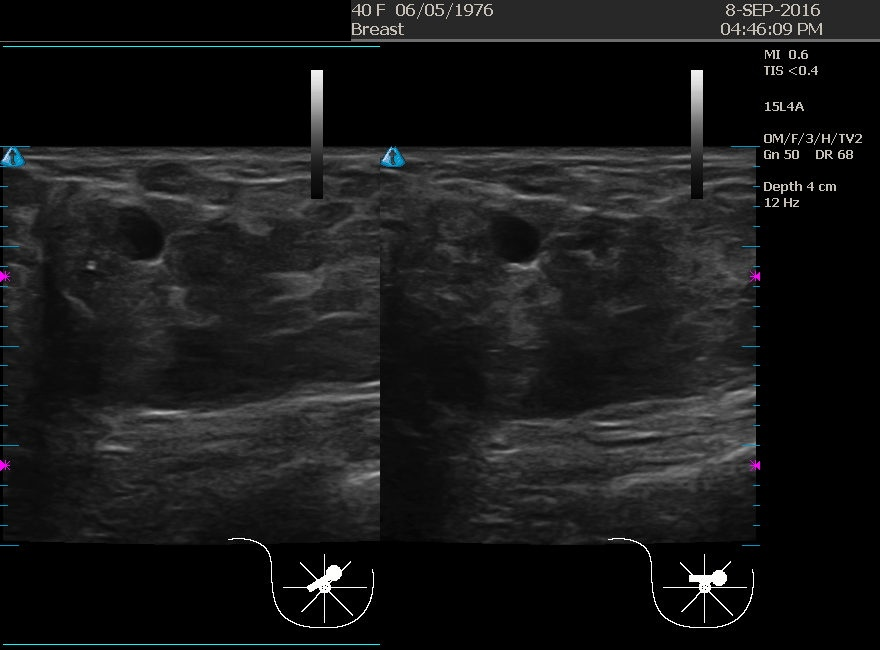BIRADS_2: (25, 150, 226, 351), (429, 174, 629, 375)
